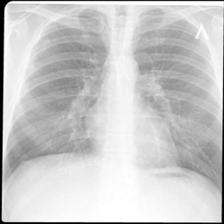tuberculosis: (6, 6, 222, 194)
